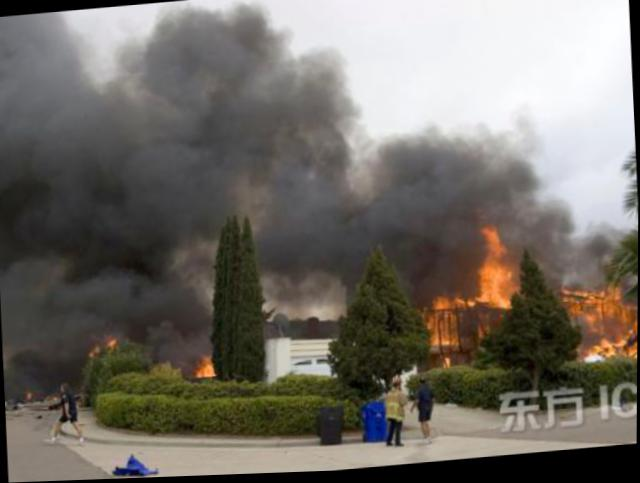fire: (476, 226, 512, 312), (568, 289, 622, 326), (424, 299, 456, 349), (587, 338, 621, 365), (620, 304, 637, 336), (195, 352, 213, 378), (628, 342, 637, 363)
